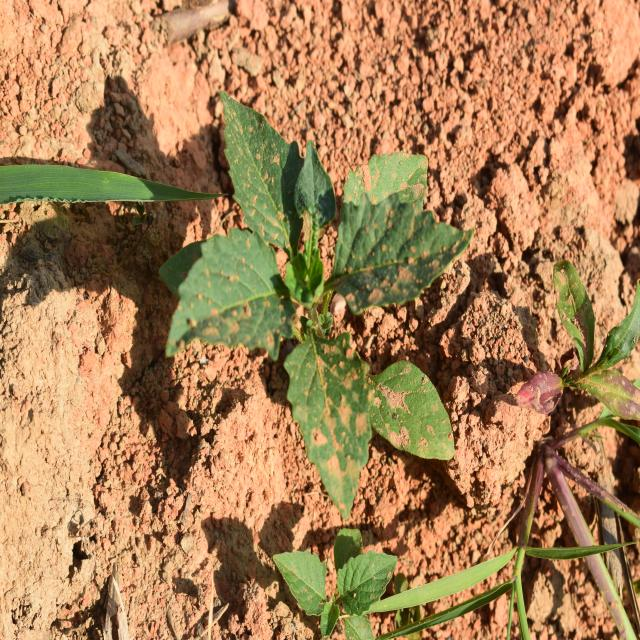Black_nightshade: (192, 97, 449, 486)
